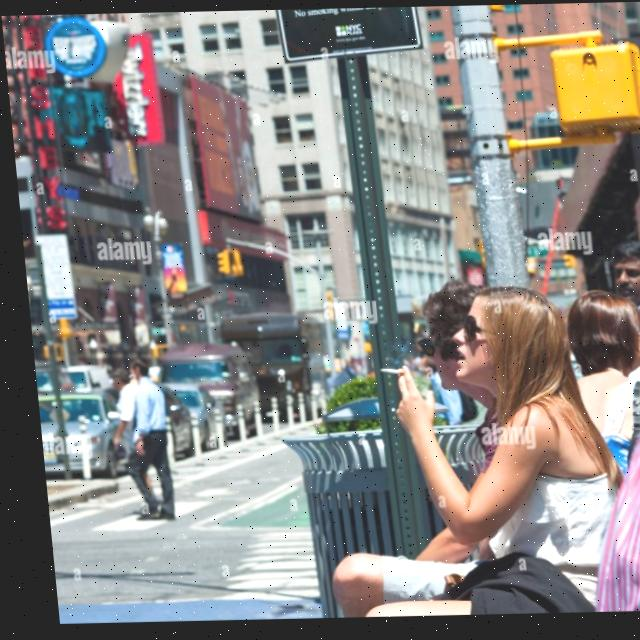cigarette: (372, 371, 398, 379)
